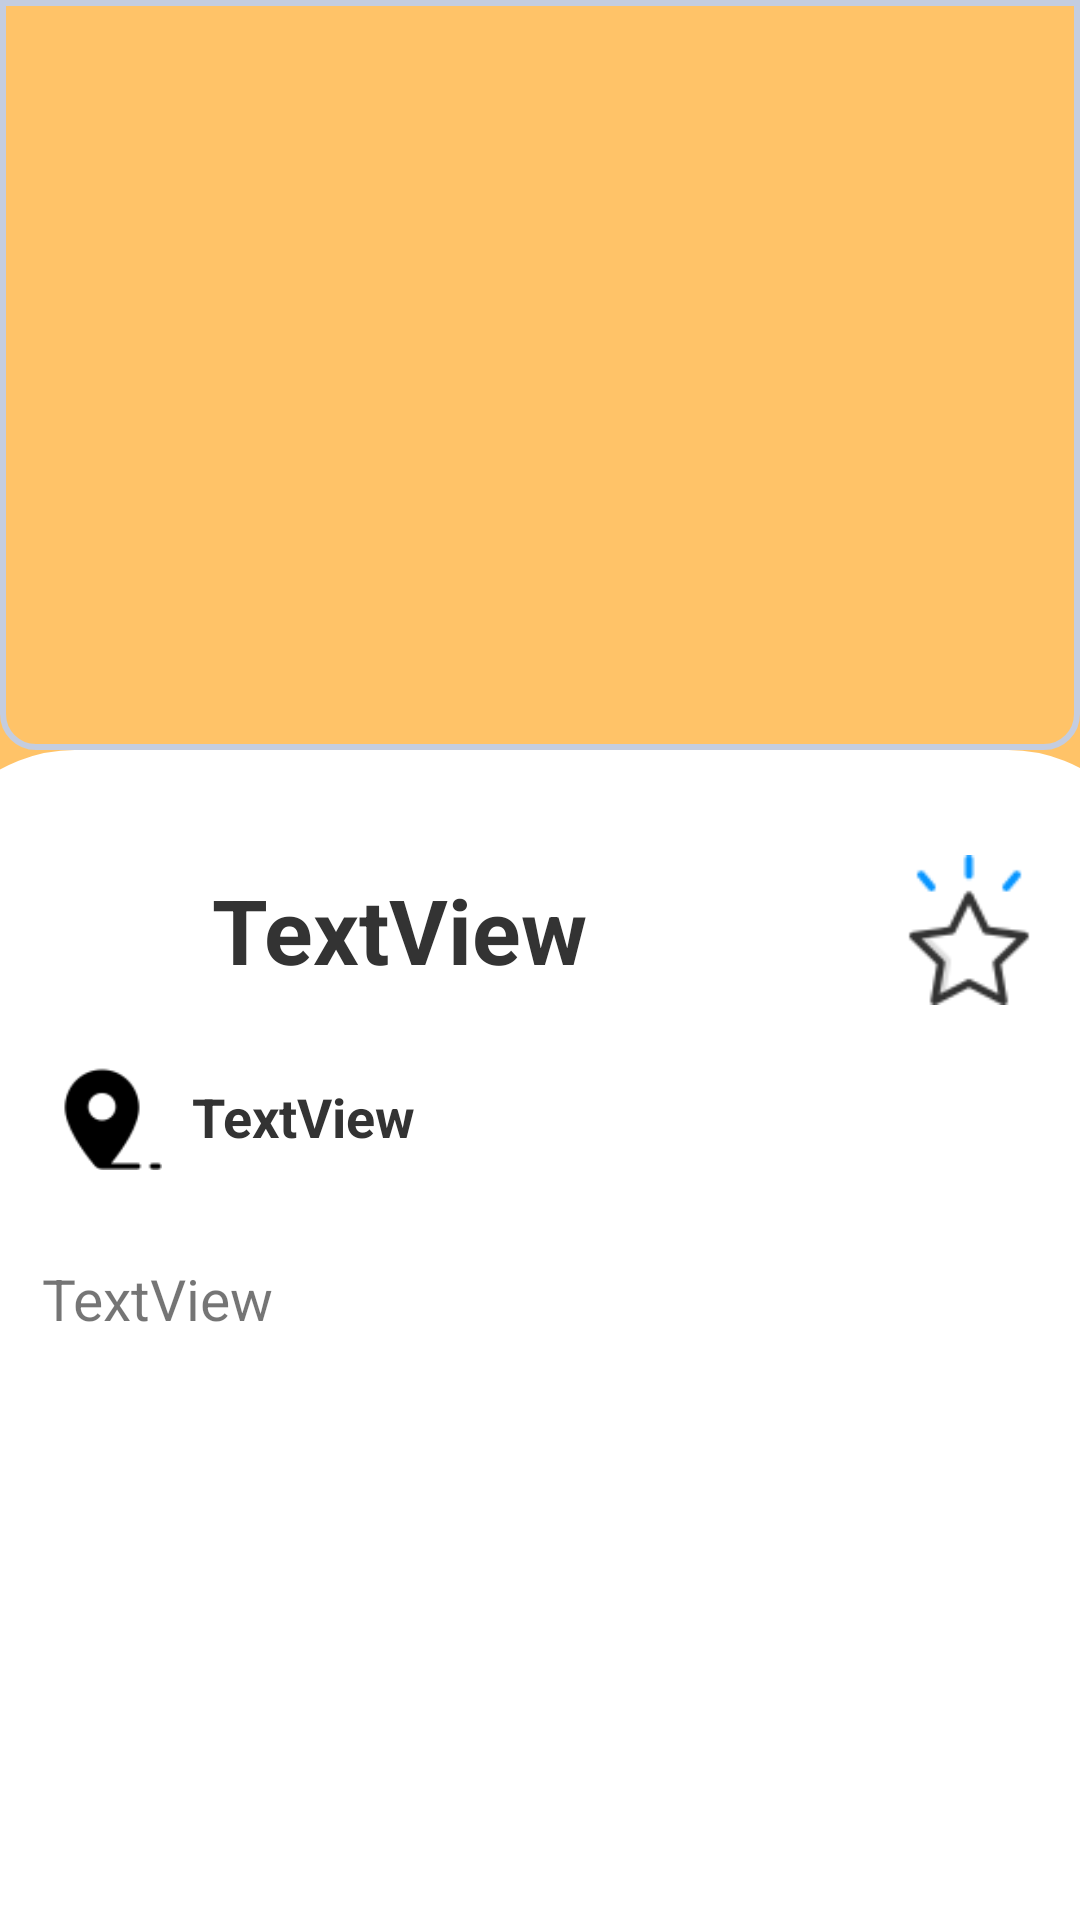

Icon click points for this 1080*1920 phone screenshot, format (x,y):
favorite: (969,930)
location: (113,1119)
